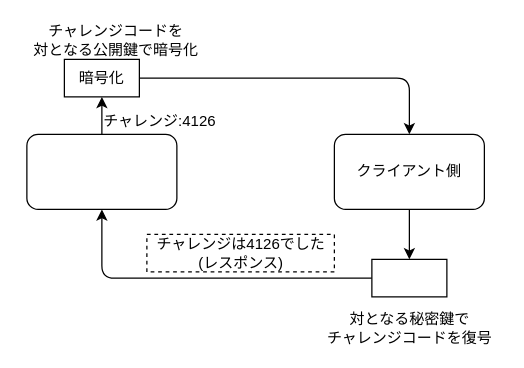
Some shapes in this 524 by 368 pixel diagram are drawn without their labels. The shapes that lost their labels are listed below. From the top down, each one's box as (x1, y1, x2, y2) in pixels, then its label:
(26, 133, 177, 209): サーバ側 (ログイン先)
(371, 258, 447, 297): 復号化
